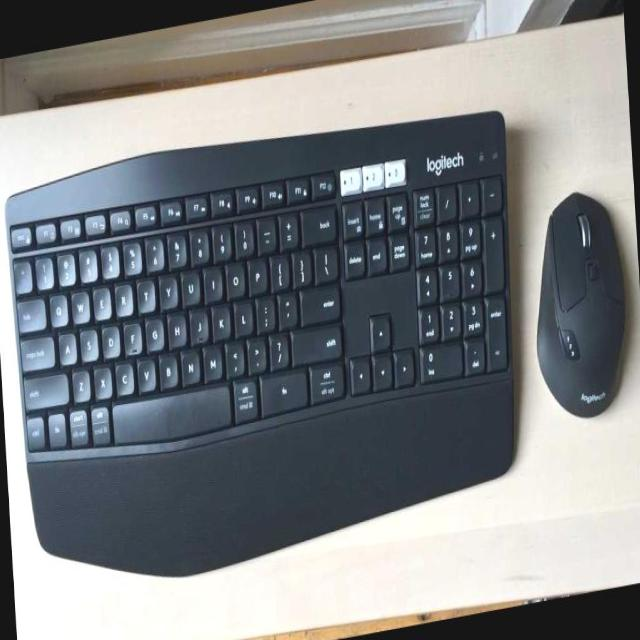keyboard: (7, 115, 512, 568)
mouse: (538, 190, 625, 422)
